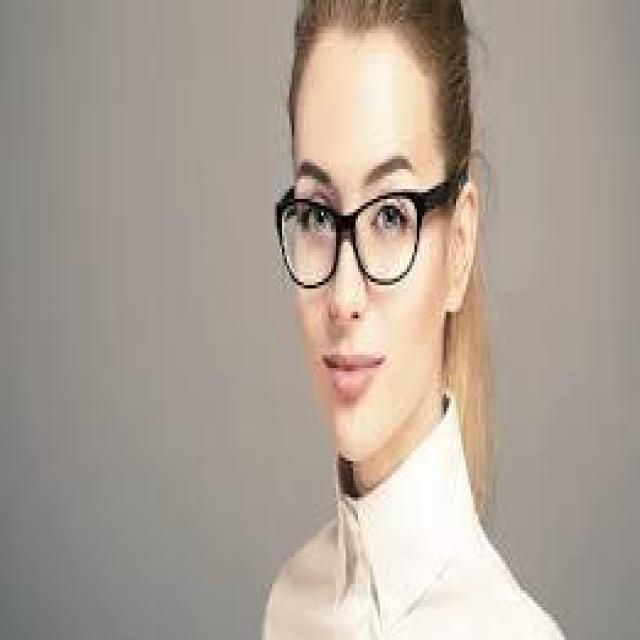person: (240, 0, 569, 637)
